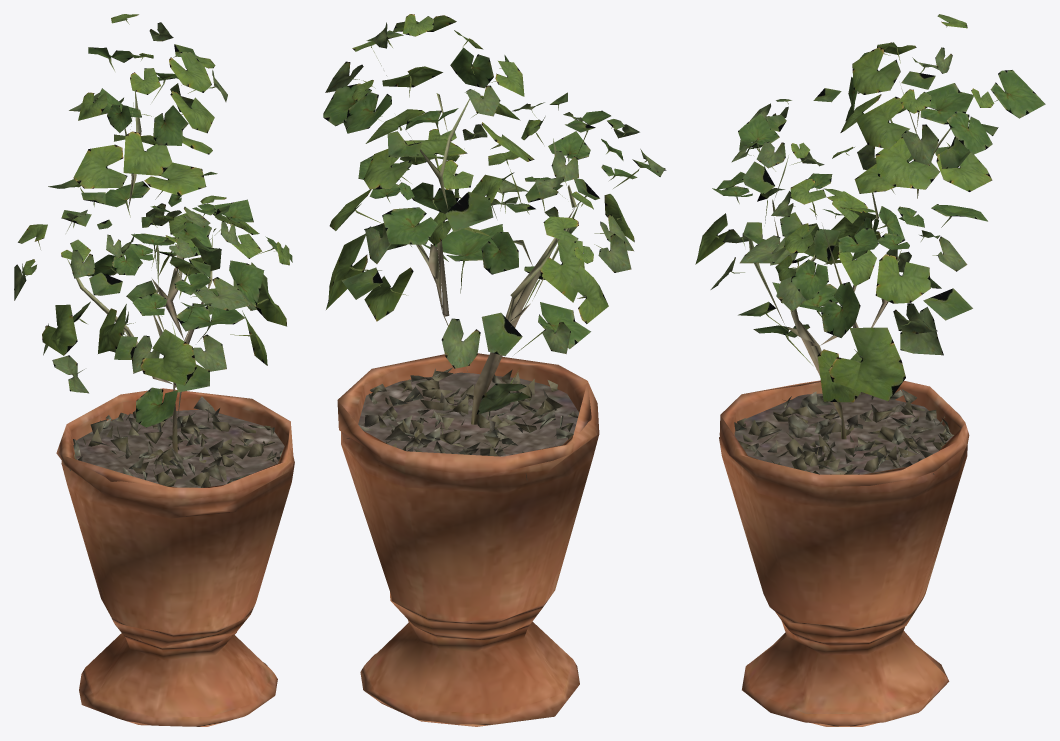
The model's file is tallplant.glb.
3 views of the same model, side by side, from view 1: azimuth 30°, elevation 25°; view 2: azimuth 150°, elevation 25°; view 3: azimuth 270°, elevation 25° (orthographic). The views are drawn at different scales.
Visible parts, largest first — view 1: potted_plant_01_stem, potted_plant_01_leaves; view 2: potted_plant_01_stem, potted_plant_01_leaves; view 3: potted_plant_01_stem, potted_plant_01_leaves.
Part boxes in pixels (<box>): potted_plant_01_stem: <box>56,91,294,726</box>; potted_plant_01_leaves: <box>14,14,292,427</box>; potted_plant_01_stem: <box>337,89,599,726</box>; potted_plant_01_leaves: <box>323,14,666,414</box>; potted_plant_01_stem: <box>719,88,969,726</box>; potted_plant_01_leaves: <box>695,14,1045,402</box>.
Bounding box in the file's own units: 0.5775 × 1.33 × 0.6335.
Materials: 2 (2 with a texture image).
